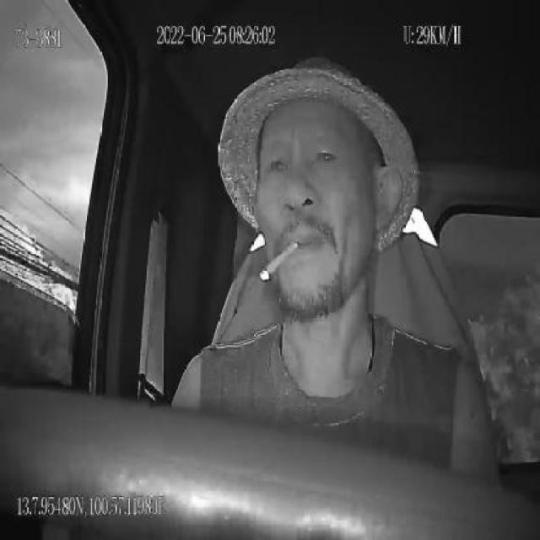smoking: (261, 239, 301, 286)
